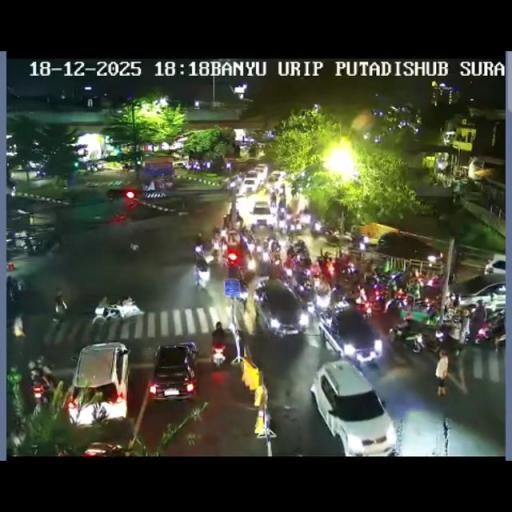Car: (310, 361, 396, 455), (67, 342, 130, 426), (318, 304, 382, 366), (253, 278, 307, 338), (149, 342, 198, 401), (450, 276, 506, 310), (222, 229, 255, 282), (248, 199, 274, 227), (81, 441, 126, 455), (483, 254, 506, 277), (106, 186, 140, 201), (226, 173, 245, 191), (242, 176, 259, 194), (253, 163, 268, 180), (172, 158, 190, 169), (269, 170, 285, 182)
Motorcycle: (354, 279, 392, 312), (474, 311, 506, 348), (430, 322, 464, 356), (393, 324, 425, 354), (29, 366, 51, 402), (407, 268, 440, 292), (383, 289, 414, 314), (10, 314, 26, 352), (328, 281, 351, 307), (335, 256, 360, 279), (292, 274, 314, 300), (315, 253, 335, 281), (384, 271, 406, 294), (442, 304, 466, 325), (194, 252, 208, 286), (292, 239, 310, 265), (210, 338, 226, 367), (6, 236, 26, 258), (256, 251, 272, 276), (350, 233, 372, 251), (286, 211, 304, 232), (276, 199, 290, 225), (309, 217, 329, 235), (53, 299, 68, 323), (233, 326, 244, 358), (323, 227, 342, 244), (424, 304, 439, 325), (266, 234, 280, 256), (6, 276, 18, 301), (217, 234, 229, 256), (222, 212, 236, 230), (448, 291, 462, 309), (25, 236, 37, 255), (210, 246, 220, 265), (162, 176, 174, 190), (278, 182, 286, 198), (16, 277, 25, 290), (250, 222, 258, 234)
